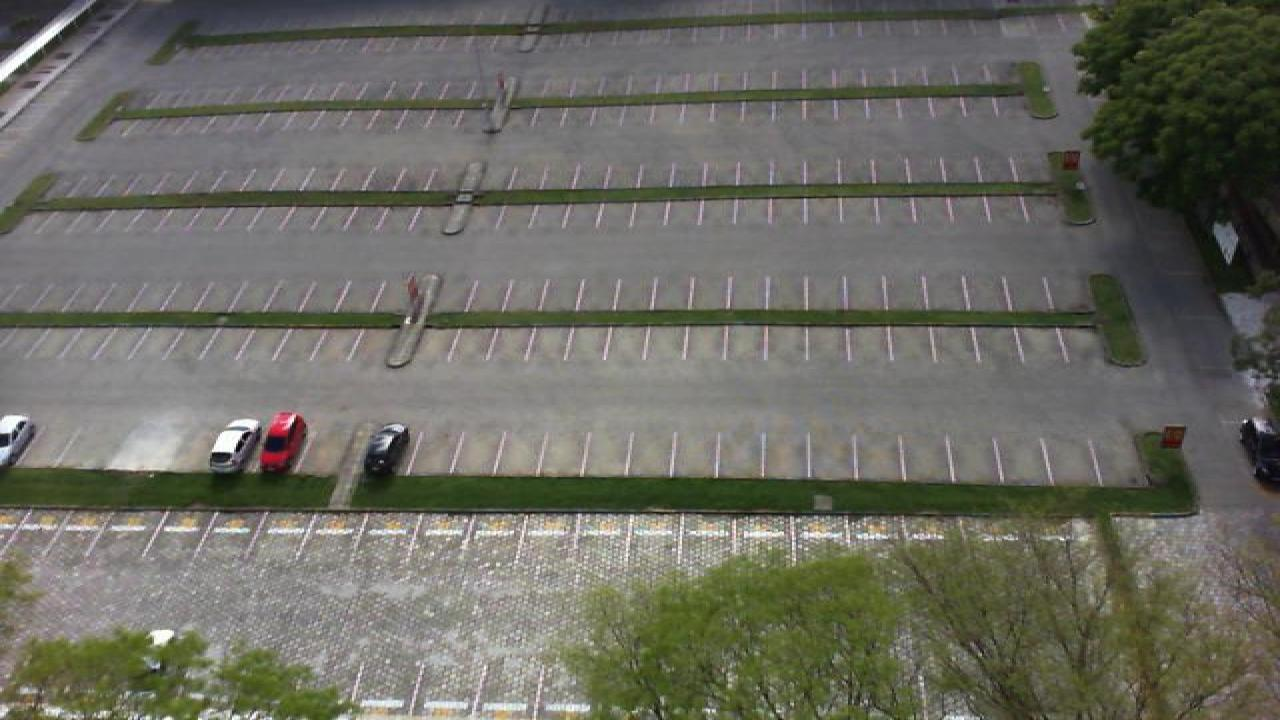Car: (208, 417, 264, 475), (258, 411, 308, 474), (362, 422, 410, 478), (1242, 415, 1280, 484), (0, 415, 34, 468)
